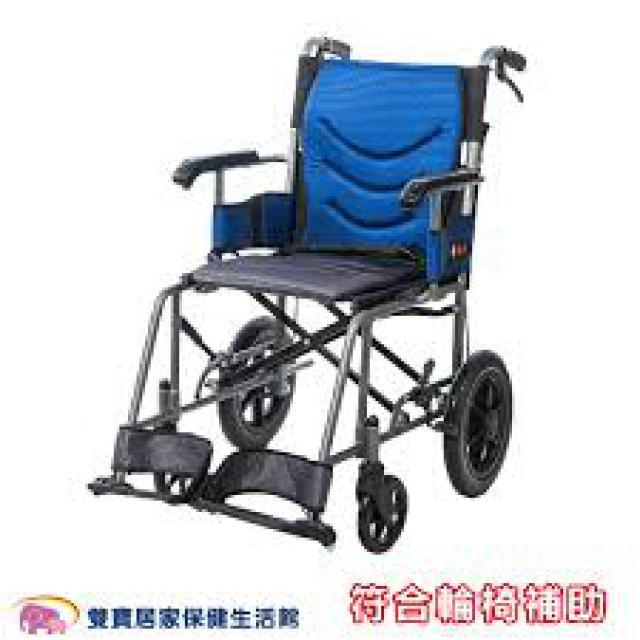wheelchair: (77, 14, 532, 552)
